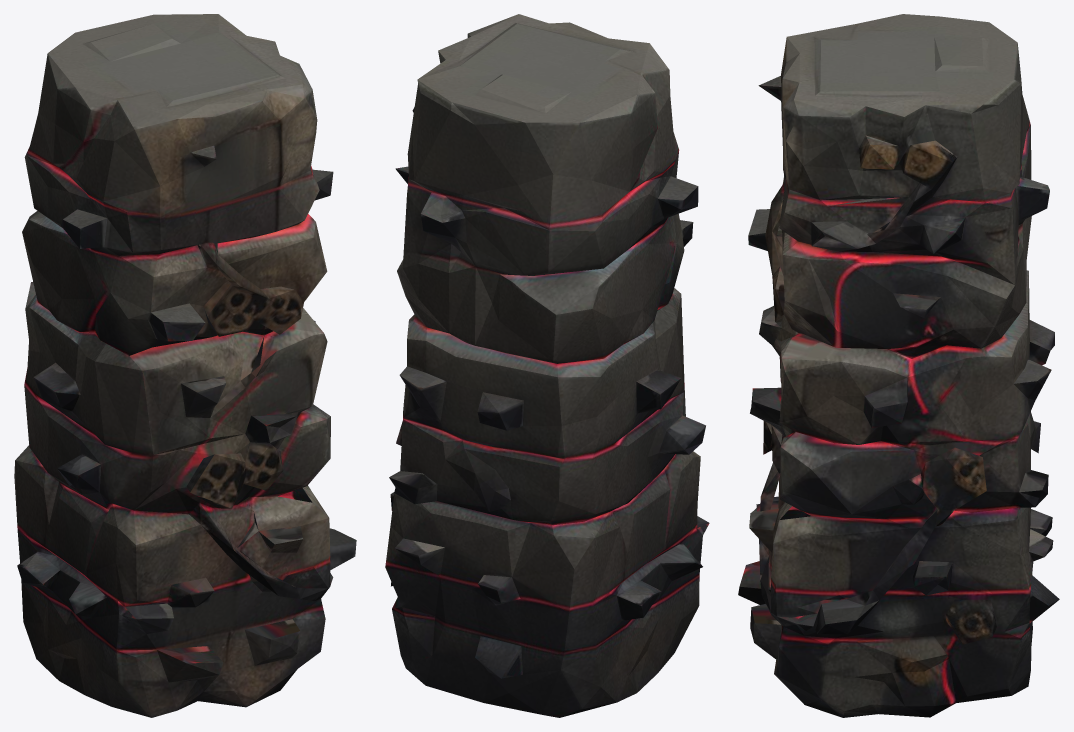
File: forge_wall.glb
The picture shows the model from 3 angles, left to right: view 1: azimuth 30°, elevation 25°; view 2: azimuth 150°, elevation 25°; view 3: azimuth 270°, elevation 25°; orthographic projection. The views are drawn at different scales.
Parts seen in each view (by area): view 1: tmpokfg8j3n.ply; view 2: tmpokfg8j3n.ply; view 3: tmpokfg8j3n.ply.
Part boxes in pixels (x1,y1,x2,y2): tmpokfg8j3n.ply: (14,14,356,717); tmpokfg8j3n.ply: (385,14,709,717); tmpokfg8j3n.ply: (738,14,1059,717).
Size of the model in its own units: 0.9414 by 1.99 by 0.937.
Materials: 1 (1 with a texture image).
